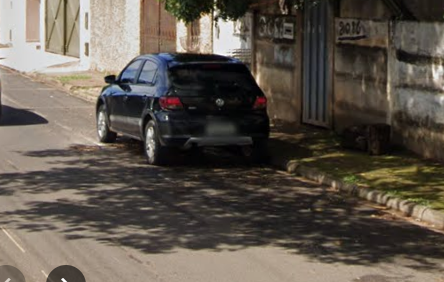car: (93, 51, 273, 166)
